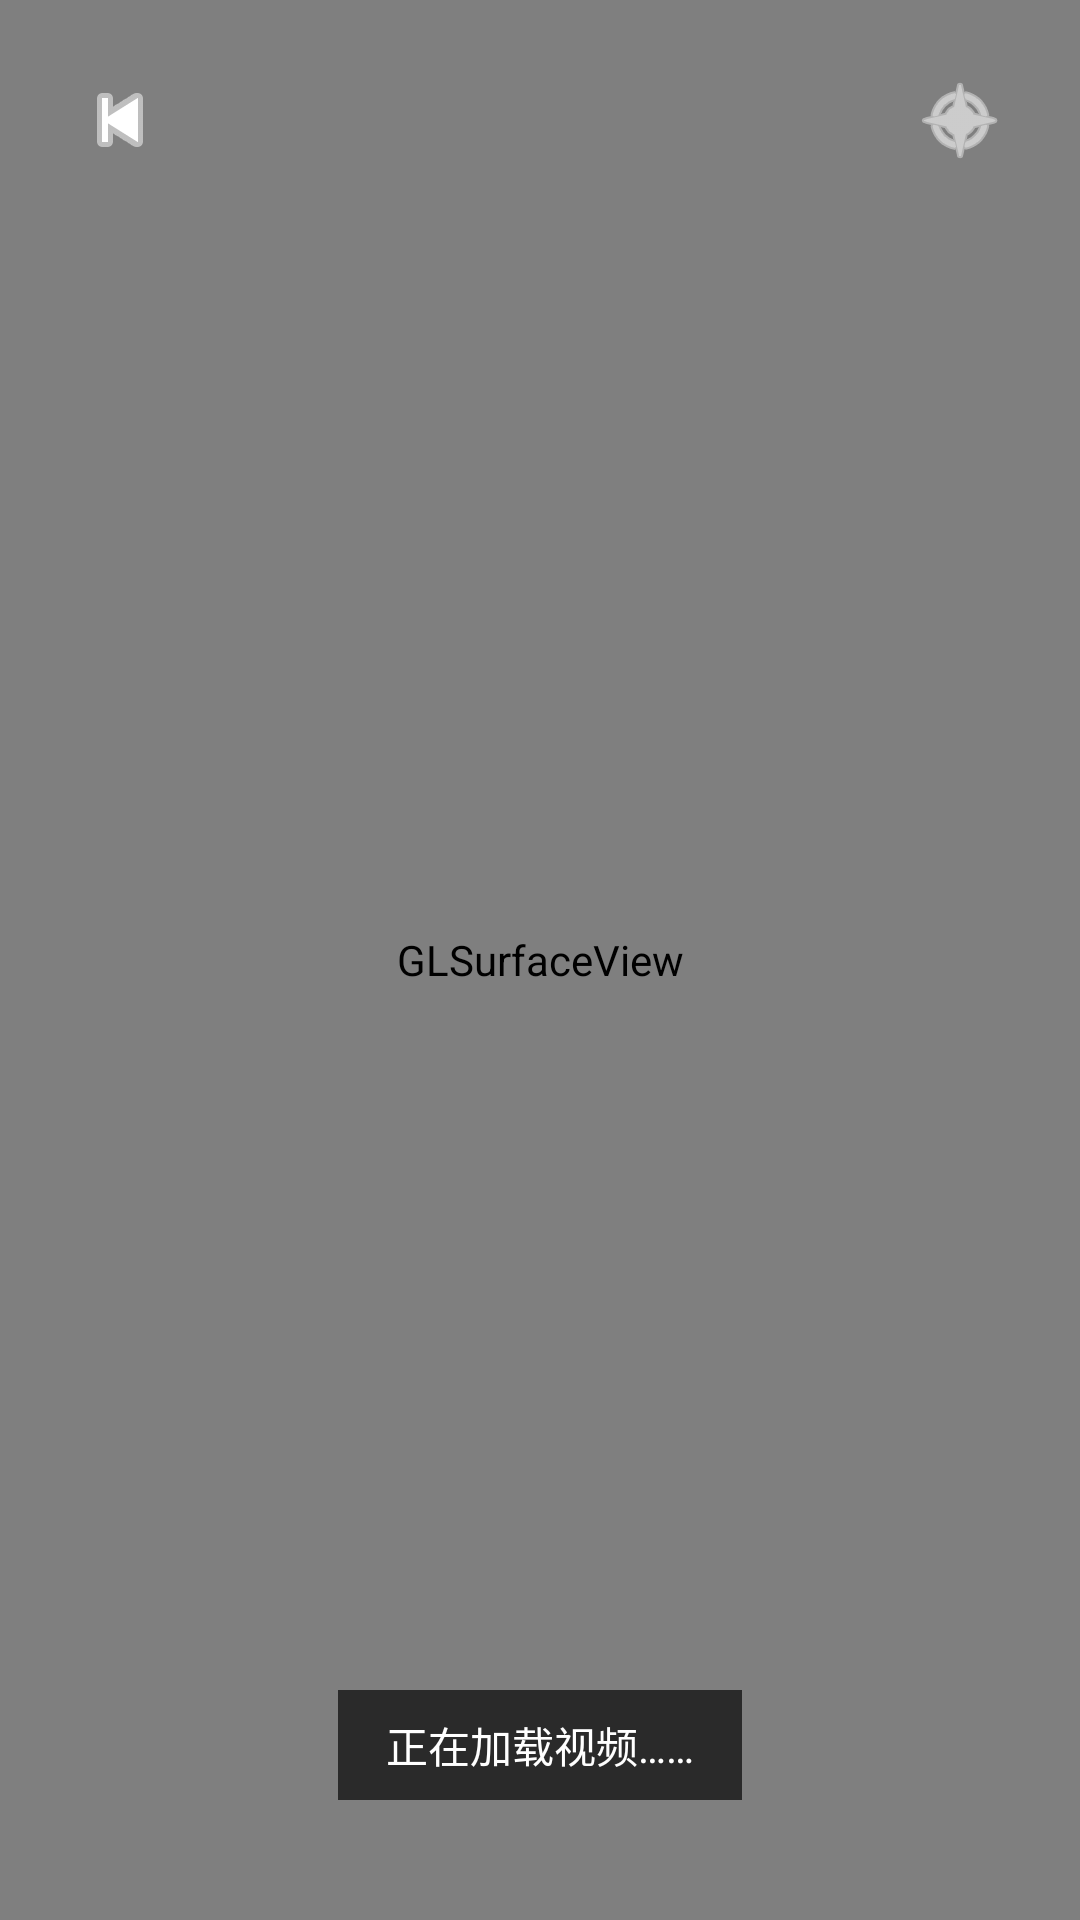

Icons on this 1080px×1920px Android screen, each with the point to tap as [x,y]:
返回: [120,120]
重置方向: [959,120]
